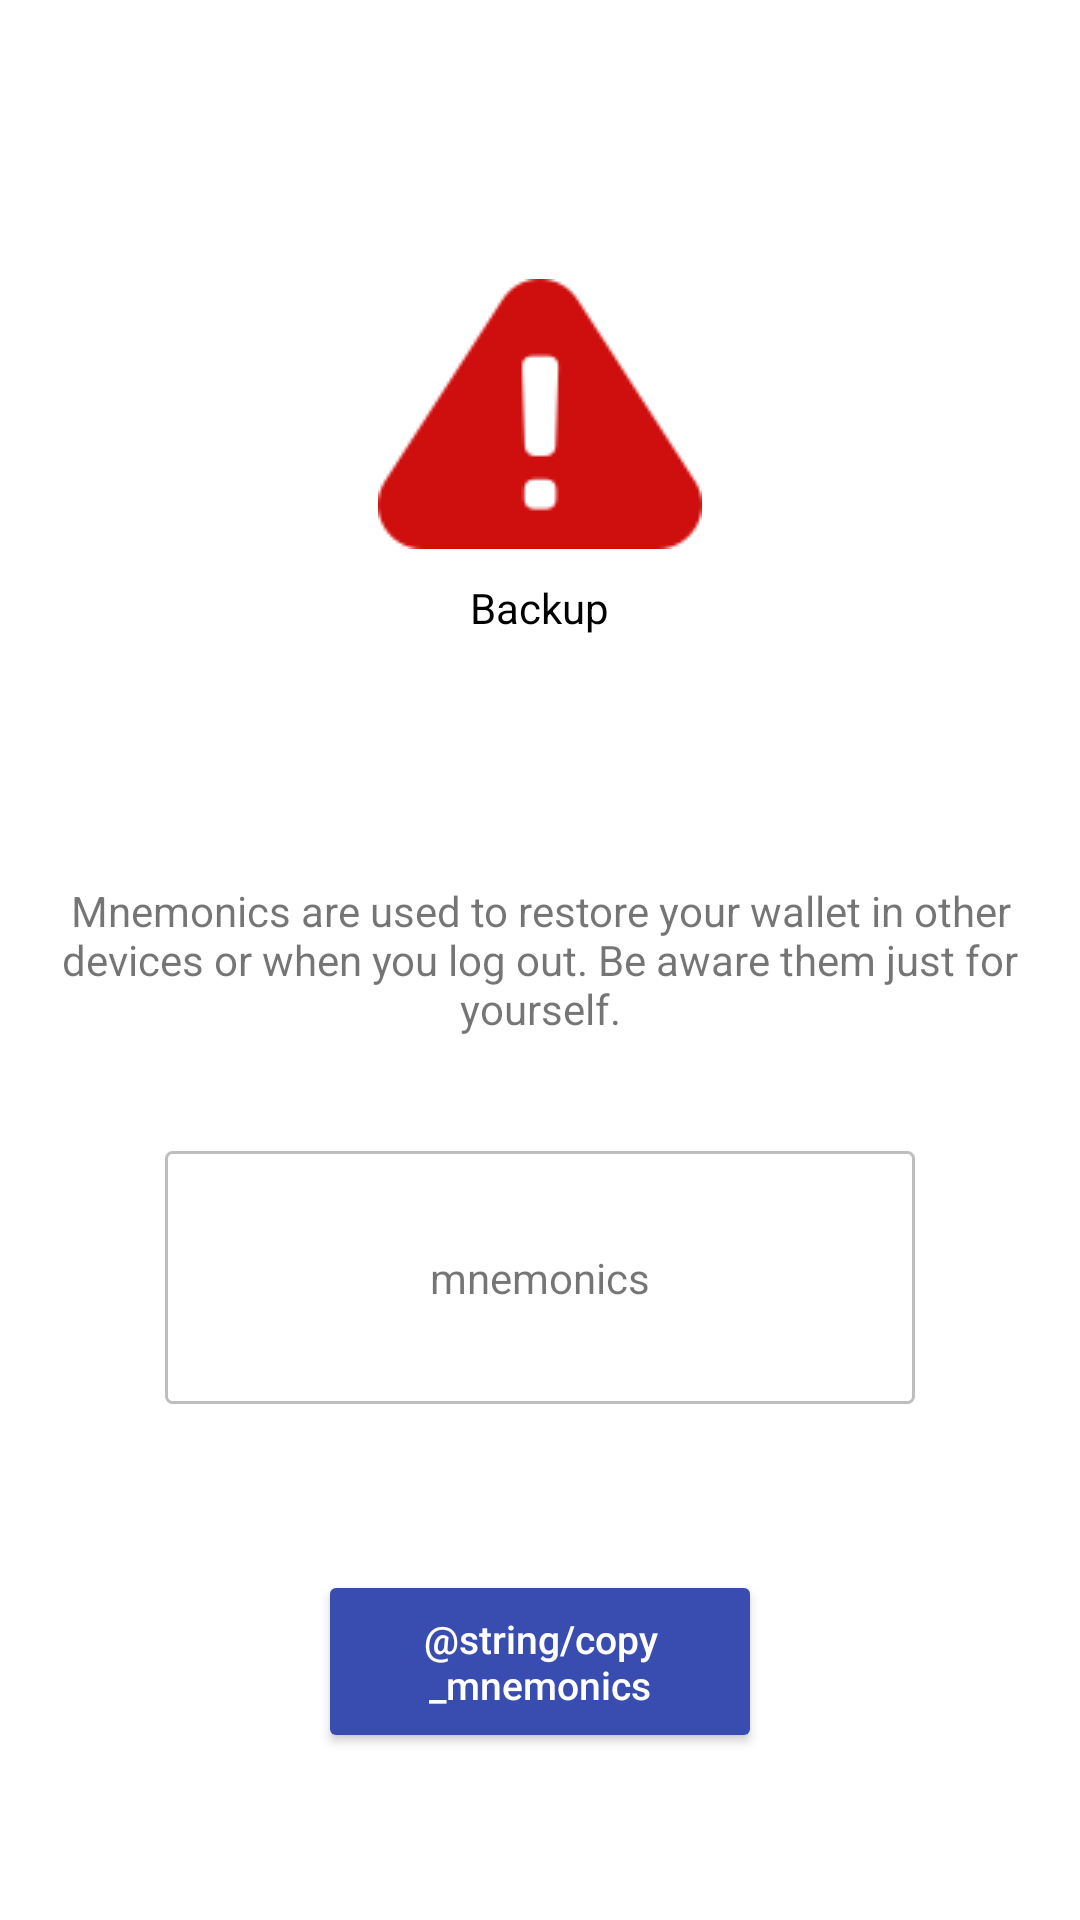

Point at icon controls on the screen. Image size 1080 × 1920, points as point (x, y).
attention: point (540, 414)
